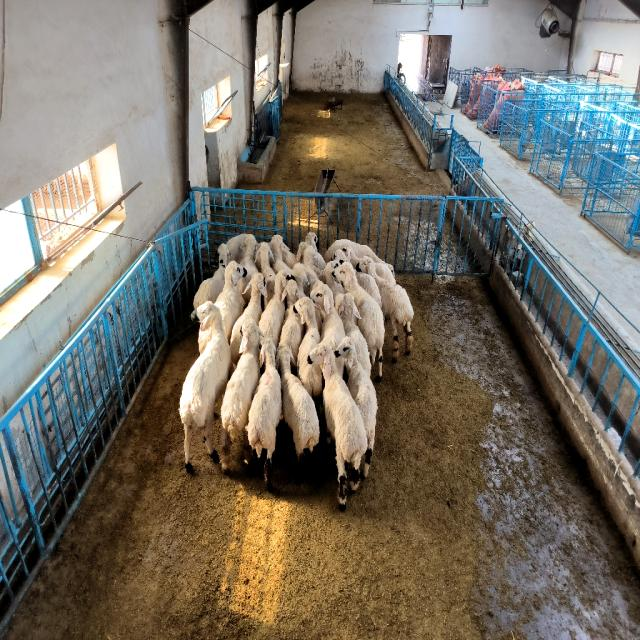sheep: (309, 282, 366, 509), (309, 342, 366, 510), (180, 302, 231, 472), (332, 262, 385, 379), (335, 337, 378, 476), (359, 257, 414, 361), (246, 337, 281, 491), (221, 318, 261, 440), (278, 347, 319, 460), (231, 272, 266, 364), (294, 297, 322, 405), (335, 293, 371, 375), (215, 260, 245, 341), (194, 243, 230, 309), (279, 280, 304, 362), (259, 272, 286, 346), (238, 235, 259, 302), (258, 242, 276, 306), (270, 235, 288, 273), (199, 328, 211, 352)
